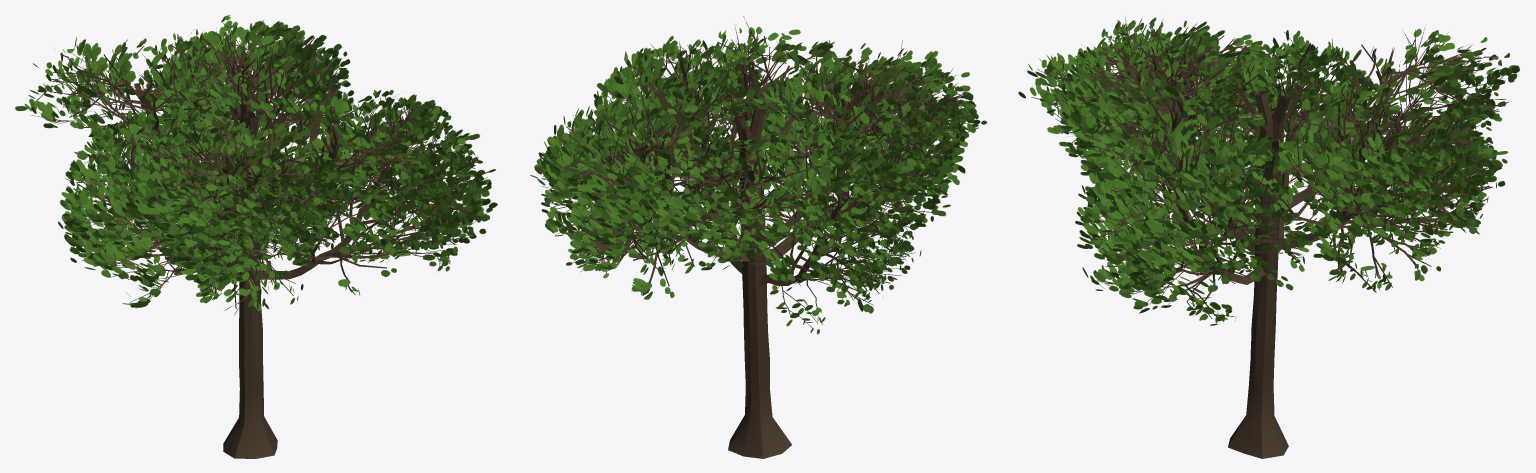
3 views of the same model, side by side, from view 1: azimuth 30°, elevation 25°; view 2: azimuth 150°, elevation 25°; view 3: azimuth 270°, elevation 25° (orthographic). The views are drawn at different scales.
Parts seen in each view (by area): view 1: oak 01.001_trunk_Mat.001_0.140; view 2: oak 01.001_trunk_Mat.001_0.140; view 3: oak 01.001_trunk_Mat.001_0.140.
Part boxes in pixels (x1=…): oak 01.001_trunk_Mat.001_0.140: x1=15, y1=15, x2=497, y2=458; oak 01.001_trunk_Mat.001_0.140: x1=530, y1=16, x2=987, y2=458; oak 01.001_trunk_Mat.001_0.140: x1=1018, y1=17, x2=1519, y2=458.
Bounding box in the file's own units: 5.73 × 5.2 × 6.43.
Materials: 2 (1 with a texture image).
